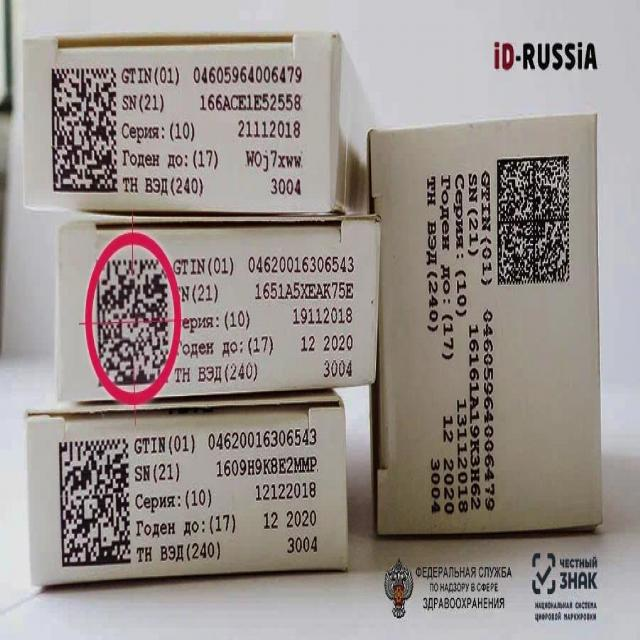datamatrix: (495, 152, 572, 290), (95, 256, 171, 387), (59, 437, 133, 570), (51, 63, 120, 196)
